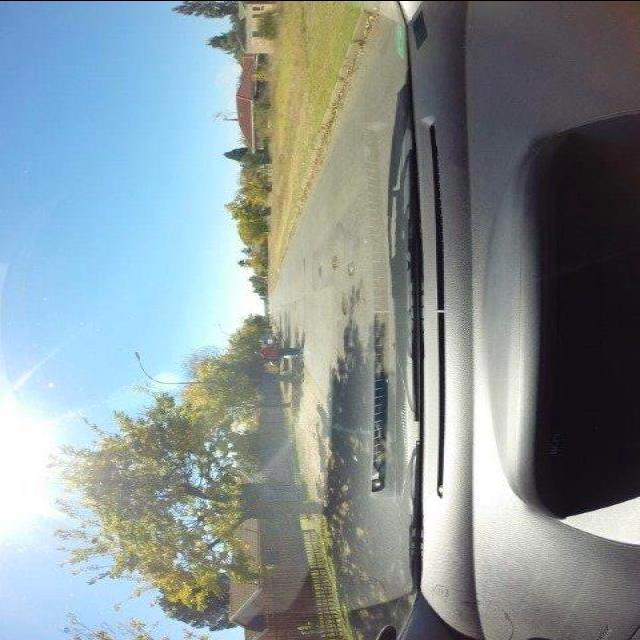lubang: (336, 280, 367, 318), (344, 258, 362, 276), (327, 253, 341, 273)
